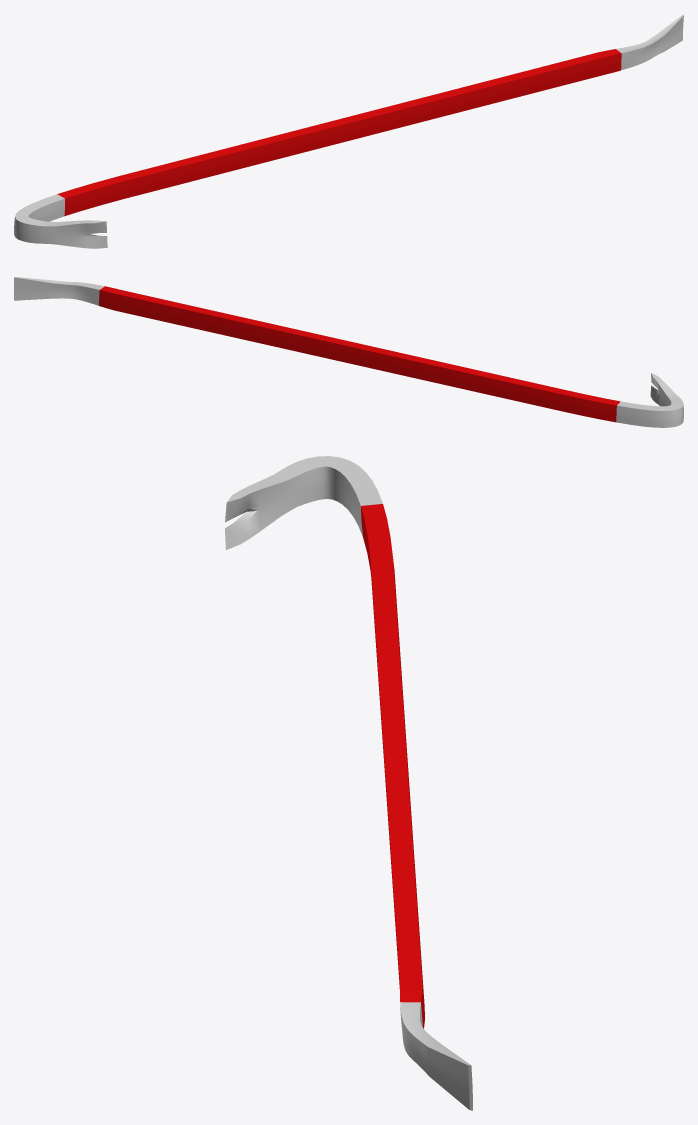
File: CROWBAR.fbx
3 views of the same model, one above another, from view 1: azimuth 30°, elevation 25°; view 2: azimuth 150°, elevation 25°; view 3: azimuth 270°, elevation 25° (orthographic). The views are drawn at different scales.
Parts seen in each view (by area): view 1: BézierCurve; view 2: BézierCurve; view 3: BézierCurve.
Part boxes in pixels (left/top/right/bottom): BézierCurve: left=14, top=14, right=683, bottom=248; BézierCurve: left=14, top=277, right=683, bottom=427; BézierCurve: left=225, top=456, right=472, bottom=1110.
Size of the model in its own units: 70 by 2.5 by 11.92.
